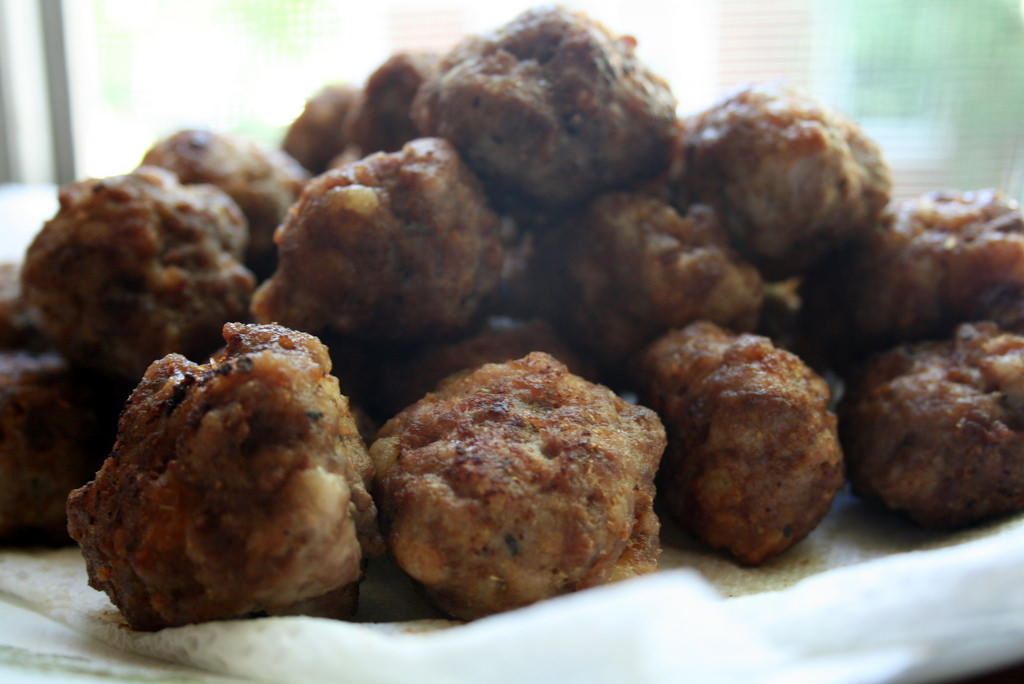meatballs: (59, 318, 384, 640), (368, 351, 675, 627), (645, 315, 862, 590), (255, 146, 530, 357), (430, 9, 693, 205), (14, 172, 255, 369), (551, 186, 783, 370), (848, 335, 1024, 559), (667, 85, 894, 257), (849, 167, 1024, 355)
